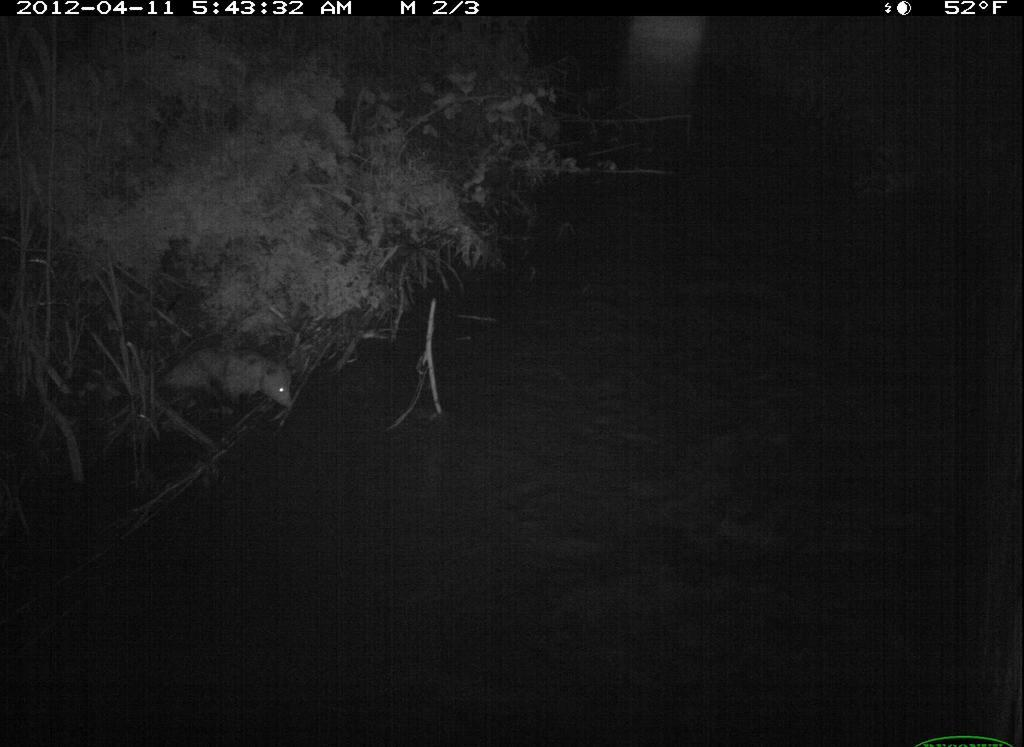opossum: (140, 319, 331, 432)
